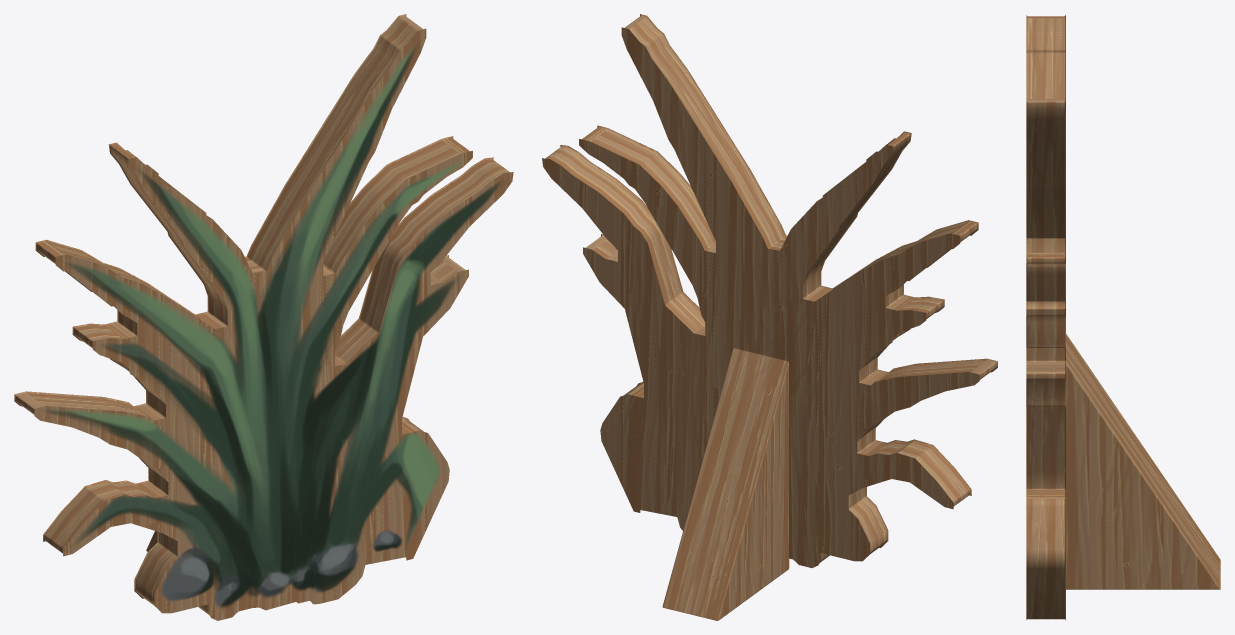
The model's file is grass_large.glb.
3 views of the same model, side by side, from view 1: azimuth 30°, elevation 25°; view 2: azimuth 150°, elevation 25°; view 3: azimuth 270°, elevation 25° (orthographic). The views are drawn at different scales.
Parts seen in each view (by area): view 1: grass_large_Block; view 2: grass_large_Block, grass_large_RearBrace; view 3: grass_large_Block, grass_large_RearBrace.
Boxes of the visible parts, left/top/right/bottom form: grass_large_Block: left=14, top=14, right=513, bottom=620; grass_large_Block: left=542, top=14, right=997, bottom=567; grass_large_RearBrace: left=662, top=348, right=789, bottom=620; grass_large_Block: left=1026, top=15, right=1065, bottom=620; grass_large_RearBrace: left=1066, top=334, right=1220, bottom=589.
Bounding box in the file's own units: 1.35 × 1.48 × 0.4767.
1 material, 1 textured.
